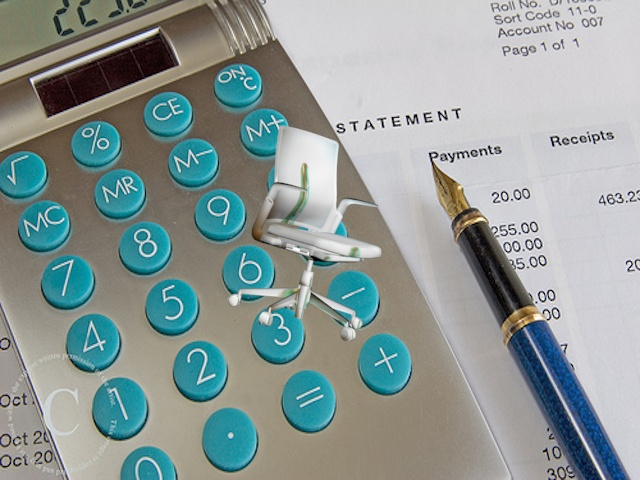desk_chair: (225, 121, 384, 352)
